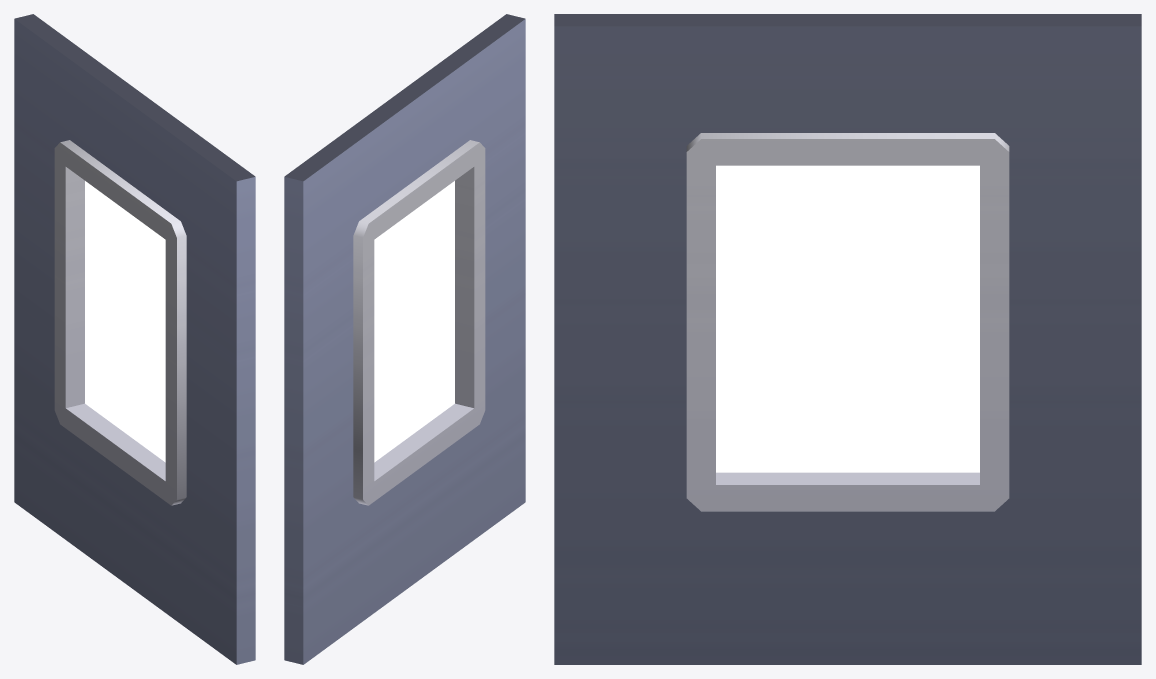
The model's file is wall-window-square.fbx.
The picture shows the model from 3 angles, left to right: view 1: azimuth 30°, elevation 25°; view 2: azimuth 150°, elevation 25°; view 3: azimuth 270°, elevation 25°; orthographic projection. The views are drawn at different scales.
Parts seen in each view (by area): view 1: wall-window-square, (%ignore); view 2: wall-window-square, (%ignore); view 3: wall-window-square, (%ignore).
Part boxes in pixels (bbox=[...]): wall-window-square: bbox=[14, 14, 255, 664]; (%ignore): bbox=[85, 181, 165, 462]; wall-window-square: bbox=[284, 14, 525, 664]; (%ignore): bbox=[374, 181, 454, 462]; wall-window-square: bbox=[554, 14, 1141, 664]; (%ignore): bbox=[716, 165, 979, 472].
Size of the model in its own units: 20 by 240 by 200.
Materials: 2 (1 with a texture image).
